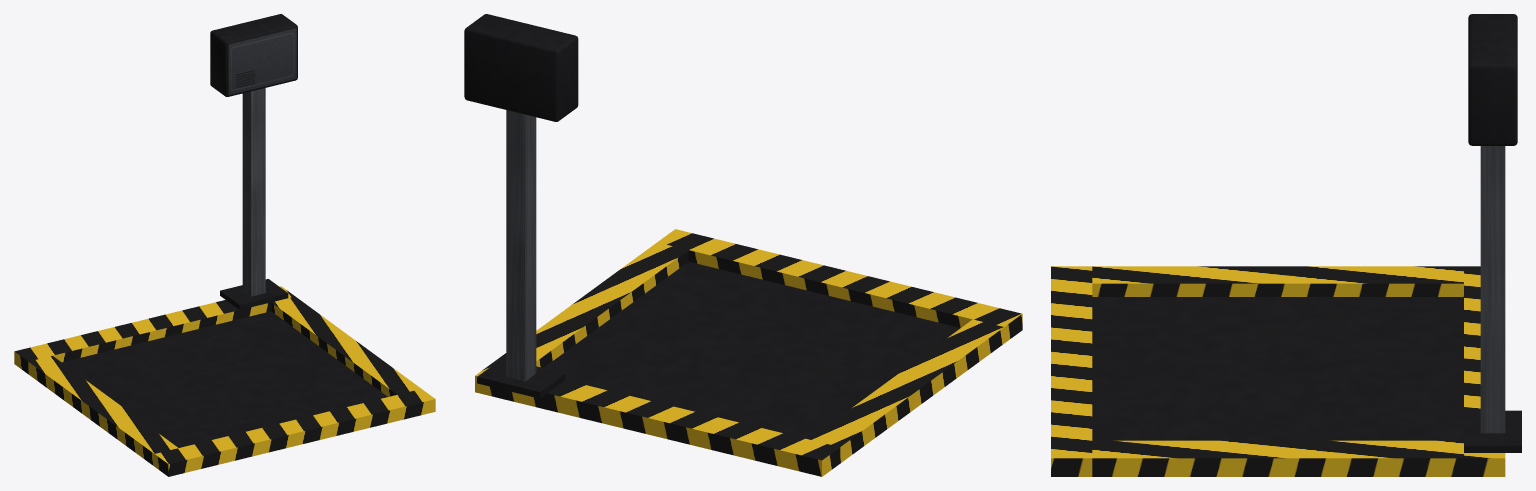
The model's file is switch_base.gltf.
3 renders of one model, left to right at view 1: azimuth 30°, elevation 25°; view 2: azimuth 150°, elevation 25°; view 3: azimuth 270°, elevation 25°, orthographic. The views are drawn at different scales.
Visible parts, largest first — view 1: SwitchBase; view 2: SwitchBase; view 3: SwitchBase.
Part boxes in pixels (x1=…): SwitchBase: x1=14, y1=14, x2=435, y2=476; SwitchBase: x1=464, y1=14, x2=1022, y2=476; SwitchBase: x1=1051, y1=14, x2=1521, y2=476.
Size of the model in its own units: 1.12 by 1.11 by 1.14.
Materials: 2 (2 with a texture image).
